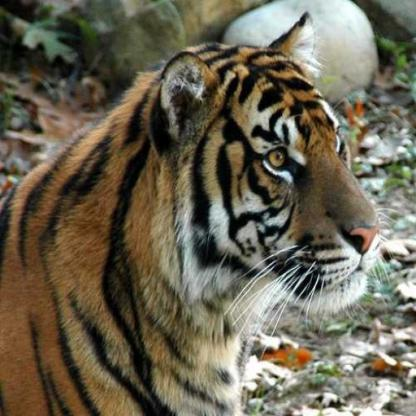Tiger: (0, 27, 402, 411)
